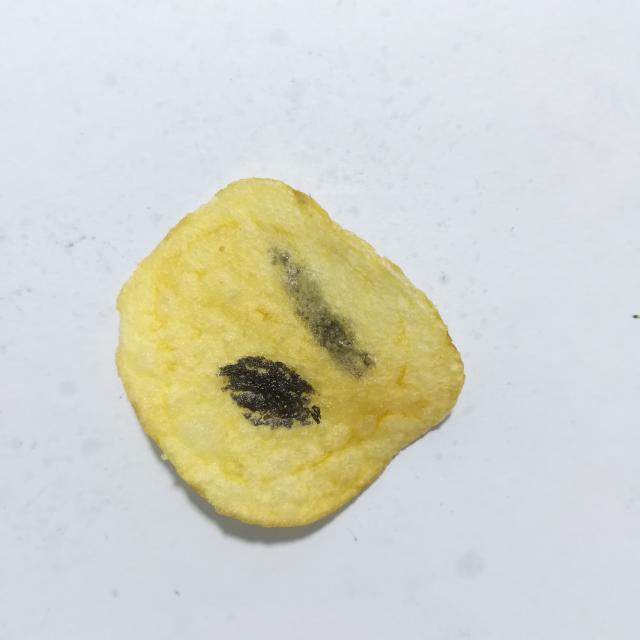chip: (116, 178, 465, 526)
damaged: (219, 356, 321, 428)
semi-damaged: (270, 246, 374, 377)
